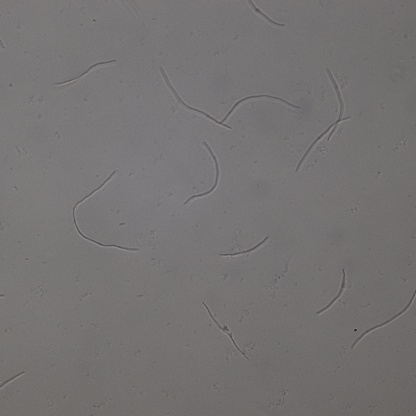Sensitive: (71, 169, 141, 252), (160, 69, 230, 128), (352, 289, 416, 348), (203, 302, 248, 359), (300, 117, 350, 167), (221, 93, 303, 122), (184, 142, 220, 204), (326, 67, 345, 143), (59, 60, 115, 85), (318, 268, 346, 313), (219, 235, 268, 259), (247, 1, 286, 28)
